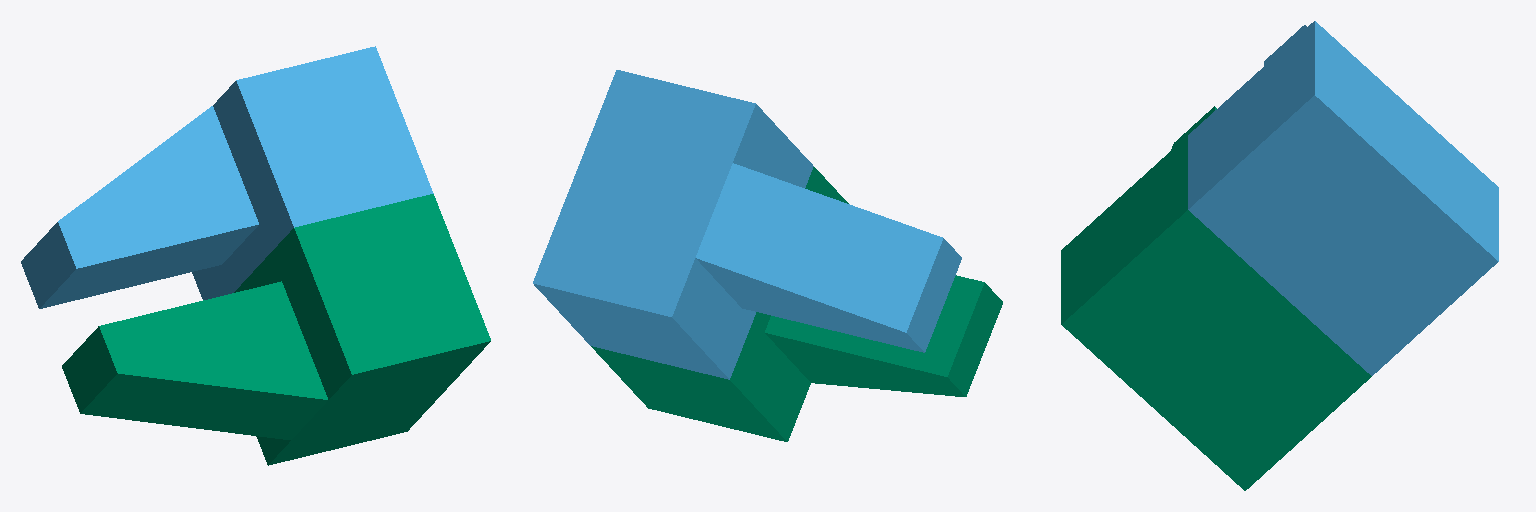
The robot description file, URDF, robot "panda":
<?xml version="1.0" ?>
<robot name="panda" xmlns:xacro="http://www.ros.org/wiki/xacro">
  <link name="panda_link0">
    <visual>
      <geometry>
        <mesh filename="package://franka_description/meshes/visual/link0.dae"/>
      </geometry>
    </visual>
    <collision>
      <geometry>
        <mesh filename="package://franka_description/meshes/collision/link0.obj"/>
      </geometry>
    </collision>
  </link>
  <link name="panda_link1">
    <visual>
      <geometry>
        <mesh filename="package://franka_description/meshes/visual/link1.dae"/>
      </geometry>
    </visual>
    <collision>
      <geometry>
        <mesh filename="package://franka_description/meshes/collision/link1.obj"/>
      </geometry>
    </collision>
  </link>
  <joint name="panda_joint1" type="revolute">
    <safety_controller k_position="100.0" k_velocity="40.0" soft_lower_limit="-2.8973" soft_upper_limit="2.8973"/>
    <origin rpy="0 0 0" xyz="0 0 0.333"/>
    <parent link="panda_link0"/>
    <child link="panda_link1"/>
    <axis xyz="0 0 1"/>
    <dynamics damping="10.0"/>
    <limit effort="87" lower="-2.8973" upper="2.8973" velocity="2.1750"/>
  </joint>
  <link name="panda_link2">
    <visual>
      <geometry>
        <mesh filename="package://franka_description/meshes/visual/link2.dae"/>
      </geometry>
    </visual>
    <collision>
      <geometry>
        <mesh filename="package://franka_description/meshes/collision/link2.obj"/>
      </geometry>
    </collision>
  </link>
  <joint name="panda_joint2" type="revolute">
    <safety_controller k_position="100.0" k_velocity="40.0" soft_lower_limit="-1.7628" soft_upper_limit="1.7628"/>
    <origin rpy="-1.57079632679 0 0" xyz="0 0 0"/>
    <parent link="panda_link1"/>
    <child link="panda_link2"/>
    <axis xyz="0 0 1"/>
    <dynamics damping="10.0"/>
    <limit effort="87" lower="-1.7628" upper="1.7628" velocity="2.1750"/>
  </joint>
  <link name="panda_link3">
    <visual>
      <geometry>
        <mesh filename="package://franka_description/meshes/visual/link3.dae"/>
      </geometry>
    </visual>
    <collision>
      <geometry>
        <mesh filename="package://franka_description/meshes/collision/link3.obj"/>
      </geometry>
    </collision>
  </link>
  <joint name="panda_joint3" type="revolute">
    <safety_controller k_position="100.0" k_velocity="40.0" soft_lower_limit="-2.8973" soft_upper_limit="2.8973"/>
    <origin rpy="1.57079632679 0 0" xyz="0 -0.316 0"/>
    <parent link="panda_link2"/>
    <child link="panda_link3"/>
    <axis xyz="0 0 1"/>
    <dynamics damping="10.0"/>
    <limit effort="87" lower="-2.8973" upper="2.8973" velocity="2.1750"/>
  </joint>
  <link name="panda_link4">
    <visual>
      <geometry>
        <mesh filename="package://franka_description/meshes/visual/link4.dae"/>
      </geometry>
    </visual>
    <collision>
      <geometry>
        <mesh filename="package://franka_description/meshes/collision/link4.obj"/>
      </geometry>
    </collision>
  </link>
  <joint name="panda_joint4" type="revolute">
    <safety_controller k_position="100.0" k_velocity="40.0" soft_lower_limit="-3.0718" soft_upper_limit="-0.0698"/>
    <origin rpy="1.57079632679 0 0" xyz="0.0825 0 0"/>
    <parent link="panda_link3"/>
    <child link="panda_link4"/>
    <axis xyz="0 0 1"/>    
    <dynamics damping="10.0"/>
    <limit effort="87" lower="-3.0718" upper="-0.0698" velocity="2.1750"/>
    <!-- something is weird with this joint limit config
    <dynamics damping="10.0"/>
    <limit effort="87" lower="-3.0" upper="0.087" velocity="2.1750"/>  -->
  </joint>
  <link name="panda_link5">
    <visual>
      <geometry>
        <mesh filename="package://franka_description/meshes/visual/link5.dae"/>
      </geometry>
    </visual>
    <collision>
      <geometry>
        <mesh filename="package://franka_description/meshes/collision/link5.obj" scale="1.0 1.0 1.0" />
      </geometry>
    </collision>
  </link>
  <joint name="panda_joint5" type="revolute">
    <safety_controller k_position="100.0" k_velocity="40.0" soft_lower_limit="-2.8973" soft_upper_limit="2.8973"/>
    <origin rpy="-1.57079632679 0 0" xyz="-0.0825 0.384 0"/>
    <parent link="panda_link4"/>
    <child link="panda_link5"/>
    <axis xyz="0 0 1"/>
    <dynamics damping="10.0"/>
    <limit effort="12" lower="-2.8973" upper="2.8973" velocity="2.6100"/>
  </joint>
  <link name="panda_link6">
    <visual>
      <geometry>
        <mesh filename="package://franka_description/meshes/visual/link6.dae"/>
      </geometry>
    </visual>
    <collision>
      <geometry>
        <mesh filename="package://franka_description/meshes/collision/link6.obj"/>
      </geometry>
    </collision>
  </link>
  <joint name="panda_joint6" type="revolute">
    <safety_controller k_position="100.0" k_velocity="40.0" soft_lower_limit="-0.0175" soft_upper_limit="3.7525"/>
    <origin rpy="1.57079632679 0 0" xyz="0 0 0"/>
    <parent link="panda_link5"/>
    <child link="panda_link6"/>
    <axis xyz="0 0 1"/>
    <dynamics damping="10.0"/>
    <limit effort="12" lower="-0.0175" upper="3.7525" velocity="2.6100"/>
    <!-- <dynamics damping="10.0"/>
    <limit effort="12" lower="-0.0873" upper="3.0" velocity="2.6100"/> -->
  </joint>
  <link name="panda_link7">
    <visual>
      <geometry>
        <mesh filename="package://franka_description/meshes/visual/link7.dae"/>
      </geometry>
    </visual>
    <collision>
      <geometry>
        <mesh filename="package://franka_description/meshes/collision/link7.obj"/>
      </geometry>
    </collision>
  </link>
  <joint name="panda_joint7" type="revolute">
    <safety_controller k_position="100.0" k_velocity="40.0" soft_lower_limit="-2.8973" soft_upper_limit="2.8973"/>
    <origin rpy="1.57079632679 0 0" xyz="0.088 0 0"/>
    <parent link="panda_link6"/>
    <child link="panda_link7"/>
    <axis xyz="0 0 1"/>
    <dynamics damping="10.0"/>
    <limit effort="12" lower="-2.8973" upper="2.8973" velocity="2.6100"/>
  </joint>
  <!--
  <link name="panda_link8"/>
  <joint name="panda_joint8" type="fixed">
    <origin rpy="0 0 0" xyz="0 0 0.107"/>
    <parent link="panda_link7"/>
    <child link="panda_link8"/>
    <axis xyz="0 0 0"/>
  </joint>
  Removing this joint seems to help with some stability things
  -->
  <joint name="panda_hand_joint" type="fixed">
    <!--
    <parent link="panda_link8"/>
    -->
    <parent link="panda_link7"/>
    <child link="panda_hand"/>
    <origin rpy="0 0 -0.785398163397" xyz="0 0 0.107"/>
    <!--
    <origin rpy="0 0 -0.785398163397" xyz="0 0 0"/>
    -->
  </joint>
  <link name="panda_hand">
    <visual>
      <geometry>
        <mesh filename="package://franka_description/meshes/visual/hand.dae"/>
      </geometry>
    </visual>
    <collision>
      <geometry>
        <mesh filename="package://franka_description/meshes/collision/hand.obj"/>
      </geometry>
    </collision>
  </link>
  <link name="panda_leftfinger">
    <visual>
      <geometry>
        <mesh filename="package://franka_description/meshes/visual/finger.dae"/>
      </geometry>
    </visual>
    <collision>
      <geometry>
        <mesh filename="package://franka_description/meshes/collision/finger.obj"/>
      </geometry>
    </collision>
  </link>
  <link name="panda_rightfinger">
    <visual>
      <origin rpy="0 0 3.14159265359" xyz="0 0 0"/>
      <geometry>
        <mesh filename="package://franka_description/meshes/visual/finger.dae"/>
      </geometry>
    </visual>
    <collision>
      <origin rpy="0 0 3.14159265359" xyz="0 0 0"/>
      <geometry>
        <mesh filename="package://franka_description/meshes/collision/finger.obj"/>
      </geometry>
    </collision>
  </link>
  <joint name="panda_finger_joint1" type="prismatic">
    <parent link="panda_hand"/>
    <child link="panda_leftfinger"/>
    <origin rpy="0 0 0" xyz="0 0 0.0584"/>
    <axis xyz="0 1 0"/>
    <dynamics damping="10.0"/>
    <limit effort="20" lower="0.0" upper="0.04" velocity="0.2"/>
  </joint>
  <joint name="panda_finger_joint2" type="prismatic">
    <parent link="panda_hand"/>
    <child link="panda_rightfinger"/>
    <origin rpy="0 0 0" xyz="0 0 0.0584"/>
    <axis xyz="0 -1 0"/>
    <dynamics damping="10.0"/>
    <limit effort="20" lower="0.0" upper="0.04" velocity="0.2"/>
    <mimic joint="panda_finger_joint1"/>
  </joint>
</robot>

--- What the picture shows (computed from the rendered views, not written in the file) ---
The picture shows the robot from 3 angles, left to right: view 1: azimuth 30°, elevation 25°; view 2: azimuth 150°, elevation 25°; view 3: azimuth 270°, elevation 25°; orthographic projection.
Model panda with 11 links and 10 joints (7 revolute, 2 prismatic, 1 fixed), rooted at panda_link0, posed all joints at 0 but 1 set to mid-range because 0 is outside their limits (panda_joint4 = -1.57).
Visible links, largest first — view 1: panda_rightfinger, panda_leftfinger; view 2: panda_leftfinger, panda_rightfinger; view 3: panda_leftfinger, panda_rightfinger.
Boxes of the visible links, <box> form: panda_rightfinger: <box>62,194,490,465</box>; panda_leftfinger: <box>21,46,433,308</box>; panda_leftfinger: <box>533,70,961,379</box>; panda_rightfinger: <box>591,167,1002,441</box>; panda_leftfinger: <box>1188,21,1498,375</box>; panda_rightfinger: <box>1061,106,1371,490</box>.
Size in the robot's own frame: 0.0705 by 0.0757 by 0.0757 metres.
Meshes: 10 distinct files referenced, 2 mesh visuals loaded (1 Collada DAE); not drawn: 9 (reference not matched to a file when rendering).